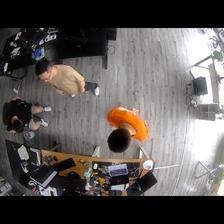normal: (35, 58, 102, 99), (106, 105, 150, 152), (2, 97, 51, 131)
